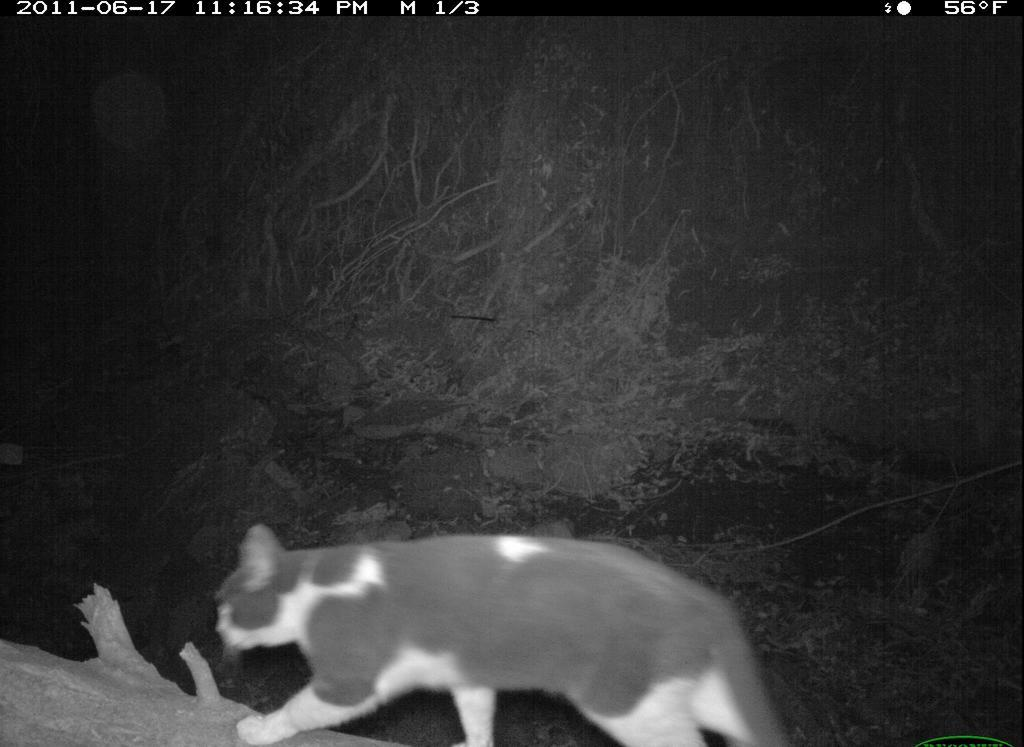cat: (209, 519, 786, 745)
